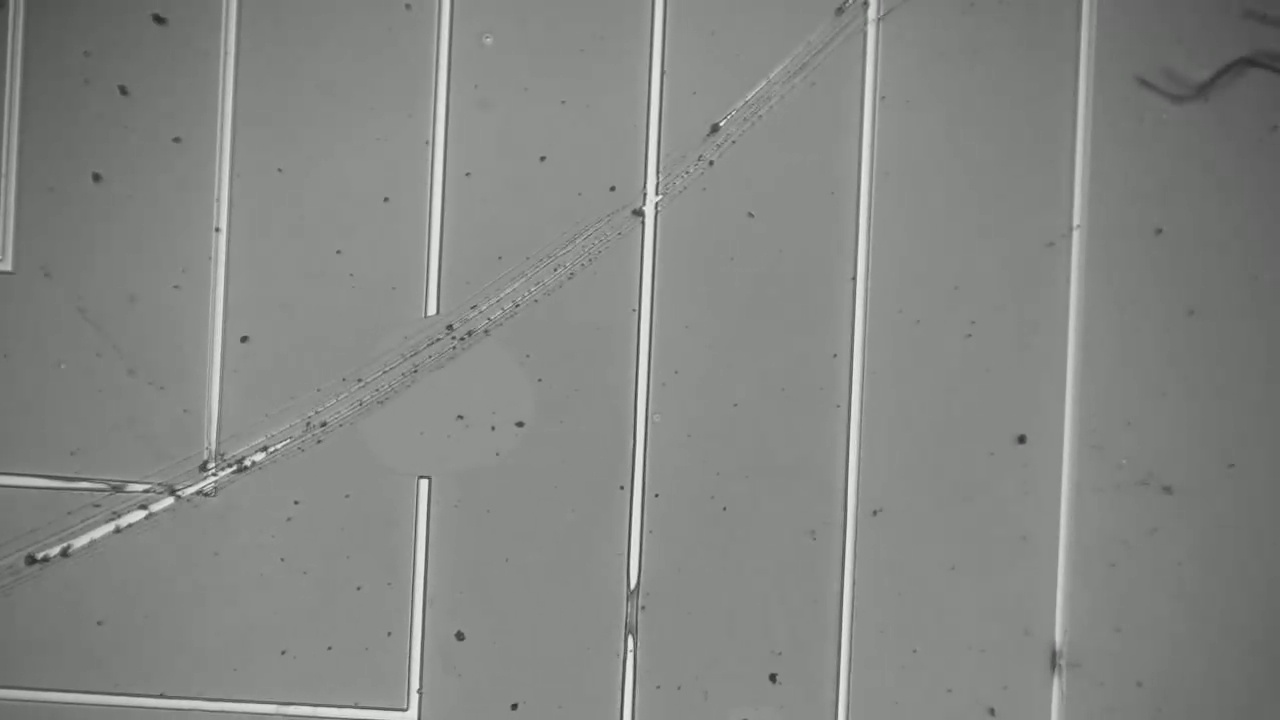gray_line: (611, 567, 649, 656), (1042, 629, 1067, 692)
open: (386, 263, 471, 519)
scratch: (268, 4, 870, 449), (0, 453, 265, 588)
